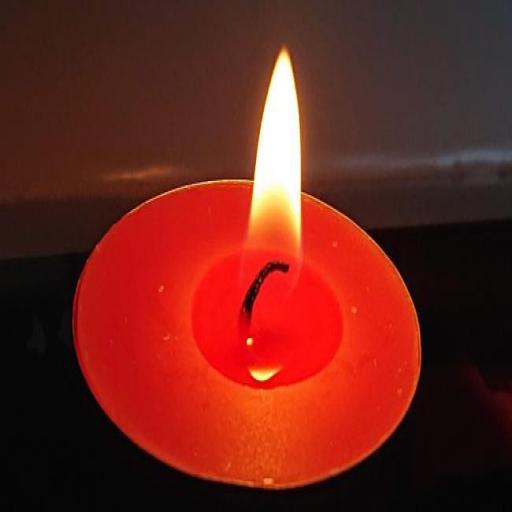fire: (237, 30, 309, 336)
